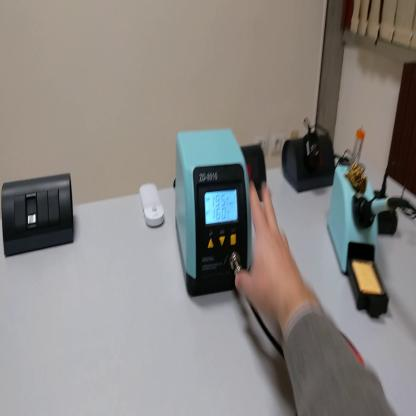electric screwdriver battery: (375, 191, 400, 235)
hand: (235, 180, 300, 322)
socket: (283, 132, 336, 196), (242, 145, 267, 202)
welder base: (330, 164, 391, 320)
welder probe tip: (360, 189, 413, 230)
welder station: (176, 123, 251, 298)
